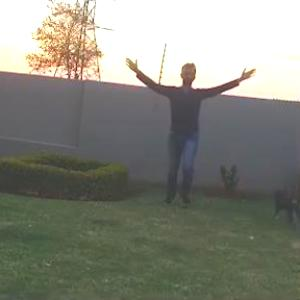takeoff: (96, 48, 245, 217)
